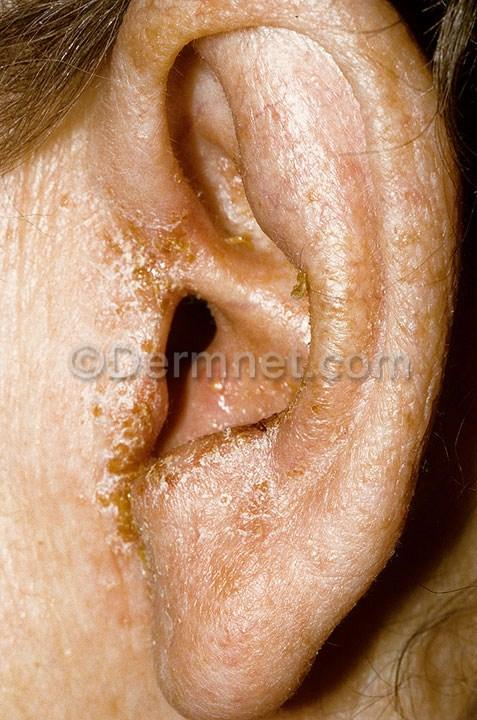Eczema: (87, 330, 205, 521), (81, 189, 219, 306)
